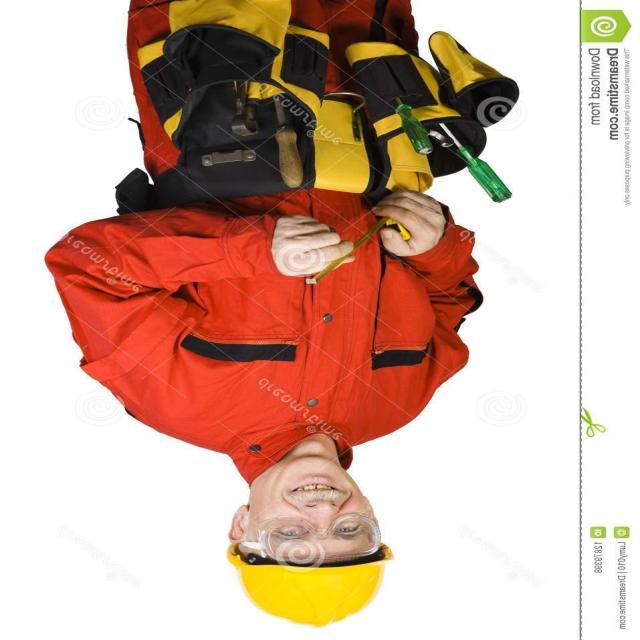helmet: (208, 534, 414, 630)
